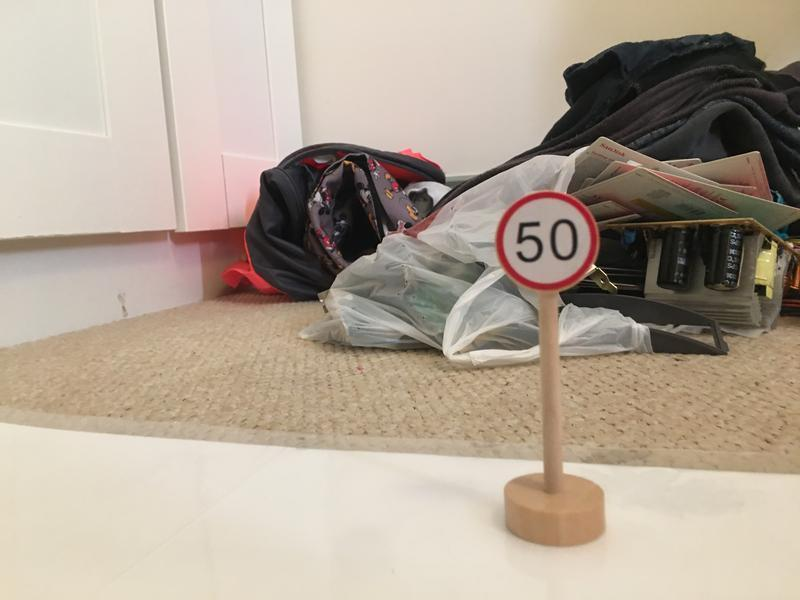Traffic_Sign_50: (494, 191, 599, 295)
